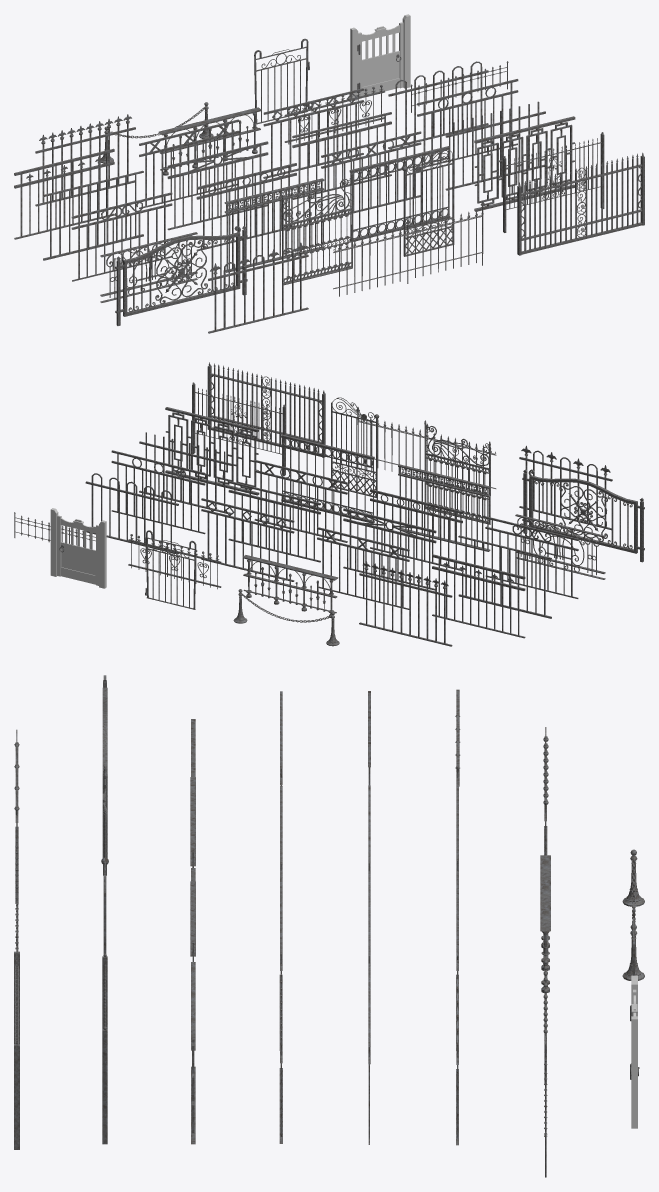
3 renders of one model, top to bottom at view 1: azimuth 30°, elevation 25°; view 2: azimuth 150°, elevation 25°; view 3: azimuth 270°, elevation 25°, orthographic. The views are drawn at different scales.
Parts seen in each view (by area): view 1: fence25_Metal_0, fence24_Metal_0, fence17_Metal_0, Gate1_Wood1_0, fence23_Metal_0, fence19_Metal_0, fence18_Metal_0, fence26_Metal_0, fence8_Metal_0, fence21_Metal_0, fence22_Metal_0, fence27_Metal_0 (+17 smaller); view 2: fence25_Metal_0, fence24_Metal_0, Gate1_Wood1_0, fence17_Metal_0, fence19_Metal_0, fence23_Metal_0, fence18_Metal_0, fence8_Metal_0, fence4_Metal_0, fence21_Metal_0, fence11_Metal_0, fence6_Metal_0 (+18 smaller); view 3: fence25_Metal_0, fence3_Metal_0, fence21_Metal_0, Gate1_Wood1_0, fence24_Metal_0, fence17_Metal_0, fence19_Metal_0.
Part boxes in pixels (left/top/right/bottom): fence25_Metal_0: left=517, top=152, right=644, bottom=255; fence24_Metal_0: left=115, top=226, right=247, bottom=325; fence17_Metal_0: left=474, top=116, right=575, bottom=211; Gate1_Wood1_0: left=350, top=14, right=410, bottom=100; fence23_Metal_0: left=281, top=173, right=353, bottom=285; fence19_Metal_0: left=224, top=178, right=324, bottom=272; fence18_Metal_0: left=349, top=146, right=450, bottom=241; fence26_Metal_0: left=333, top=200, right=484, bottom=296; fence8_Metal_0: left=14, top=148, right=114, bottom=239; fence21_Metal_0: left=503, top=132, right=604, bottom=232; fence22_Metal_0: left=402, top=148, right=454, bottom=256; fence27_Metal_0: left=208, top=242, right=308, bottom=333; fence25_Metal_0: left=207, top=362, right=325, bottom=457; fence24_Metal_0: left=522, top=469, right=644, bottom=562; Gate1_Wood1_0: left=50, top=508, right=106, bottom=588; fence17_Metal_0: left=165, top=407, right=259, bottom=495; fence19_Metal_0: left=398, top=464, right=490, bottom=551; fence23_Metal_0: left=424, top=420, right=490, bottom=524; fence18_Metal_0: left=281, top=434, right=374, bottom=523; fence8_Metal_0: left=432, top=554, right=525, bottom=638; fence4_Metal_0: left=359, top=561, right=452, bottom=646; fence21_Metal_0: left=192, top=382, right=285, bottom=475; fence11_Metal_0: left=343, top=508, right=436, bottom=590; fence6_Metal_0: left=201, top=498, right=294, bottom=581; fence25_Metal_0: left=14, top=946, right=19, bottom=1149; fence3_Metal_0: left=540, top=855, right=550, bottom=992; fence21_Metal_0: left=102, top=953, right=107, bottom=1144; Gate1_Wood1_0: left=631, top=975, right=637, bottom=1128; fence24_Metal_0: left=102, top=675, right=107, bottom=875; fence17_Metal_0: left=191, top=962, right=195, bottom=1144; fence19_Metal_0: left=190, top=777, right=195, bottom=956.
Bounding box in the file's own units: 2153 × 382 × 1432.
